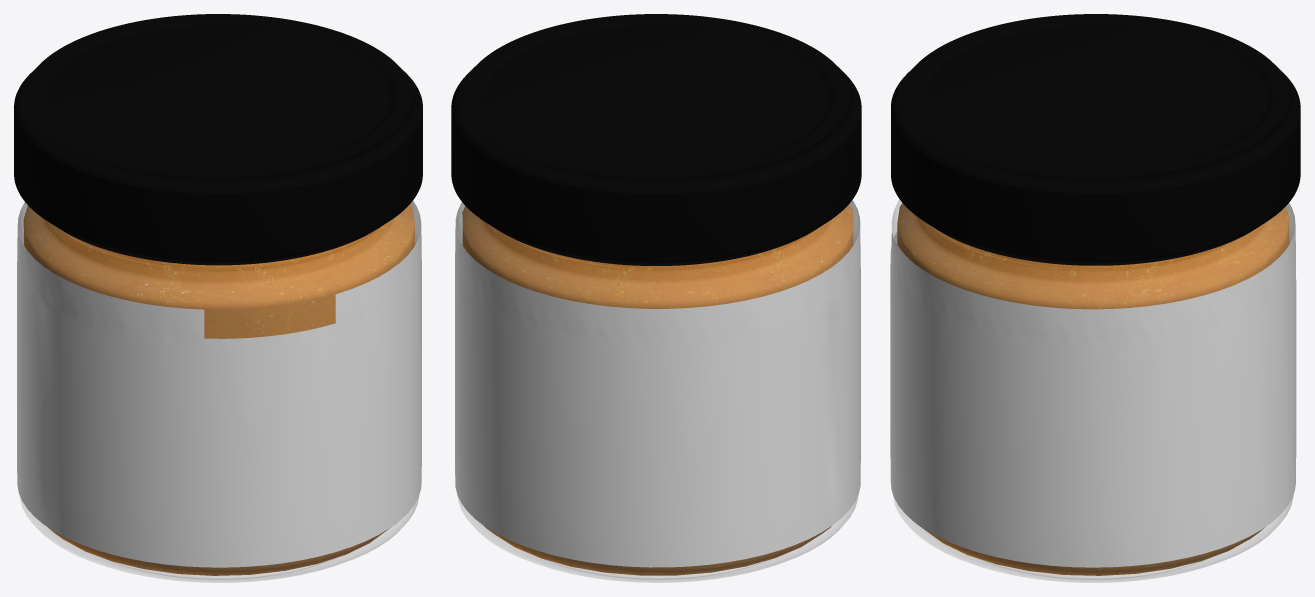
File: jar-300g-v4.glb
3 views of the same model, side by side, from view 1: azimuth 30°, elevation 25°; view 2: azimuth 150°, elevation 25°; view 3: azimuth 270°, elevation 25° (orthographic).
Visible parts, largest first — view 1: label_object_300g, lid_object_300g, jar_object_300g, honey_object_300g; view 2: label_object_300g, lid_object_300g, jar_object_300g, honey_object_300g; view 3: label_object_300g, lid_object_300g, jar_object_300g, honey_object_300g.
Part boxes in pixels (<box>): label_object_300g: <box>17,201,421,567</box>; lid_object_300g: <box>14,14,422,265</box>; jar_object_300g: <box>18,200,420,582</box>; honey_object_300g: <box>23,204,414,575</box>; label_object_300g: <box>455,200,860,567</box>; lid_object_300g: <box>451,14,861,265</box>; jar_object_300g: <box>456,200,859,582</box>; honey_object_300g: <box>462,204,853,575</box>; label_object_300g: <box>890,203,1296,567</box>; lid_object_300g: <box>891,14,1300,265</box>; jar_object_300g: <box>892,199,1294,582</box>; honey_object_300g: <box>897,203,1289,575</box>.
Bounding box in the file's own units: 0.0741 × 0.0835 × 0.0742.
Materials: 4 (1 with a texture image).
